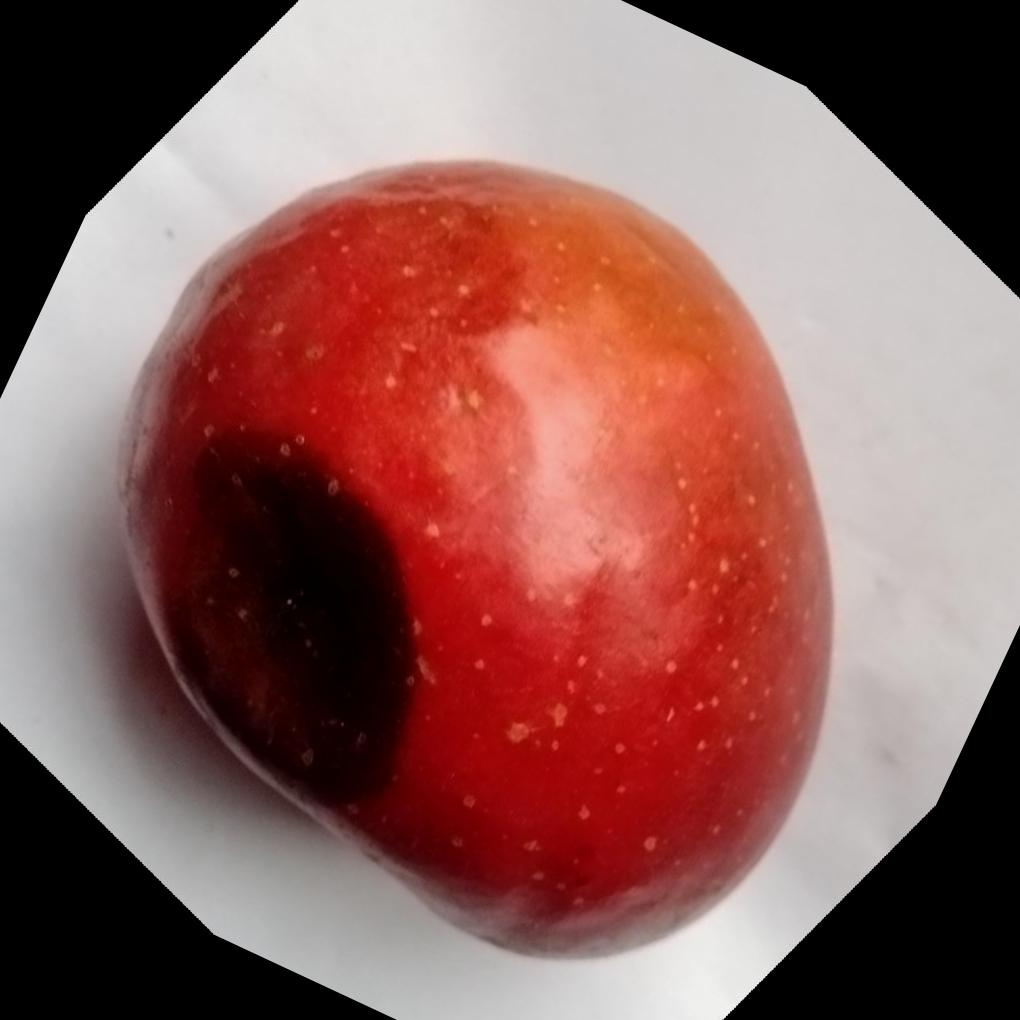FreshOrange: (117, 159, 839, 962)
